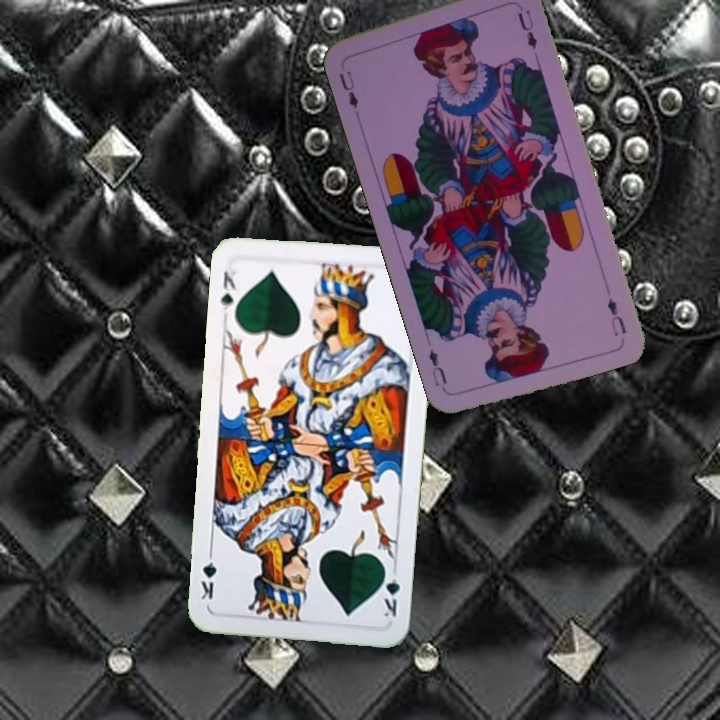EU: (603, 293, 629, 339), (335, 66, 361, 111)
GK: (217, 263, 243, 313), (380, 562, 402, 620)
